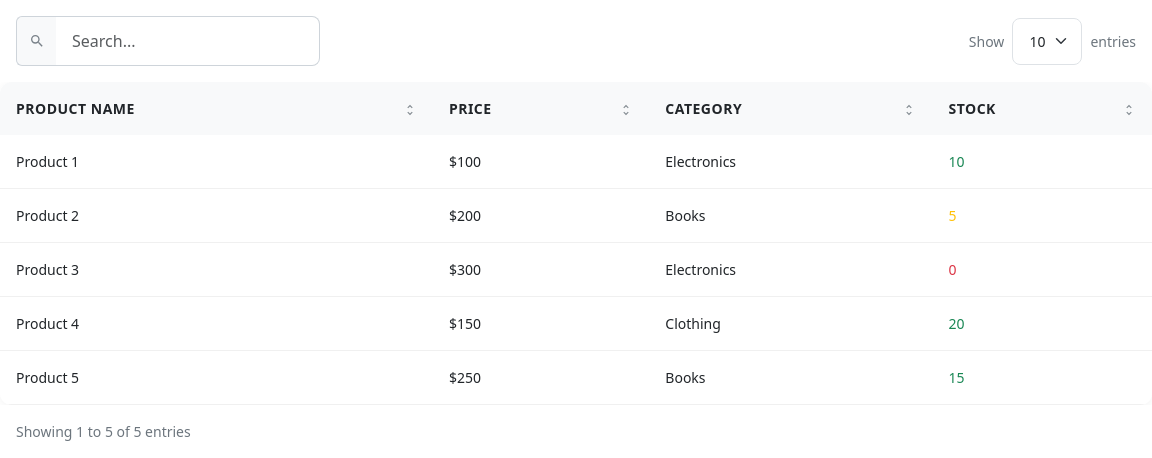
Test case: DataTable Component › Filtering › should clear filter when search is cleared
The image size is (1152, 458).
Note: Filter data
In the field with placeholder "Search...": (188,41) [56,16,320,66], type "Product 2"
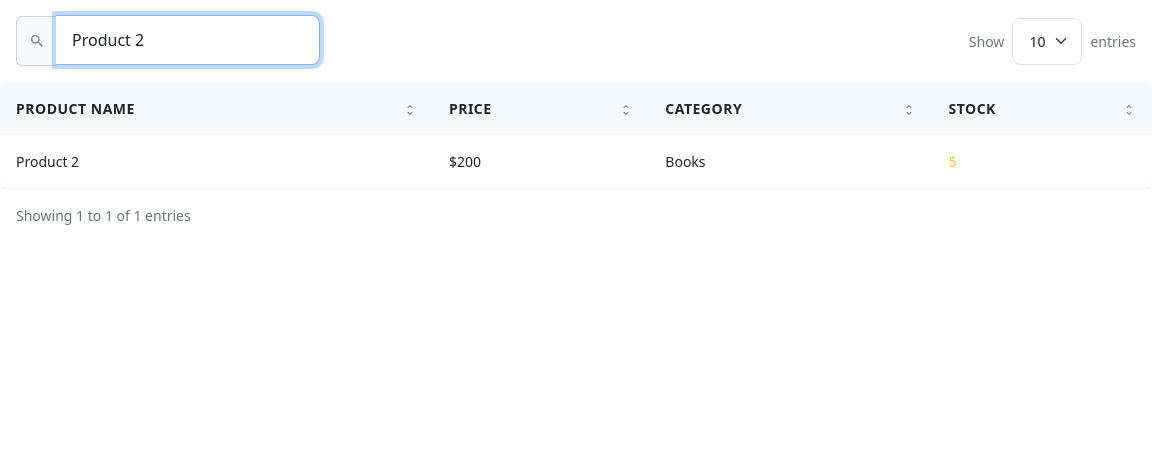
Now the text "Product 1" is gone
Note: Clear filter
Clear the field with placeholder "Search...": (188,40) [56,15,320,65]
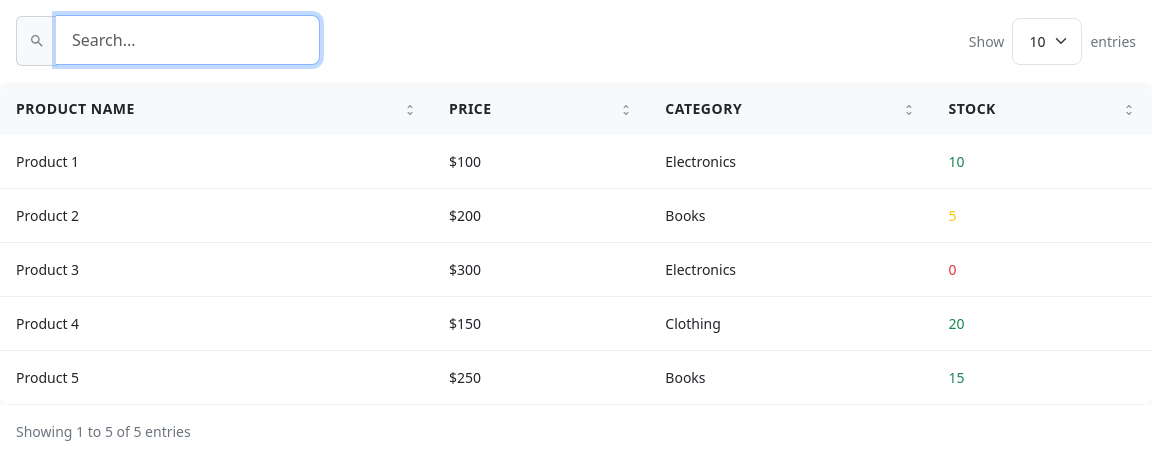
Expected: the text "Product 2" is shown, [0,189,433,243]
Now the text "Product 1" is shown, box [0,135,433,189]
